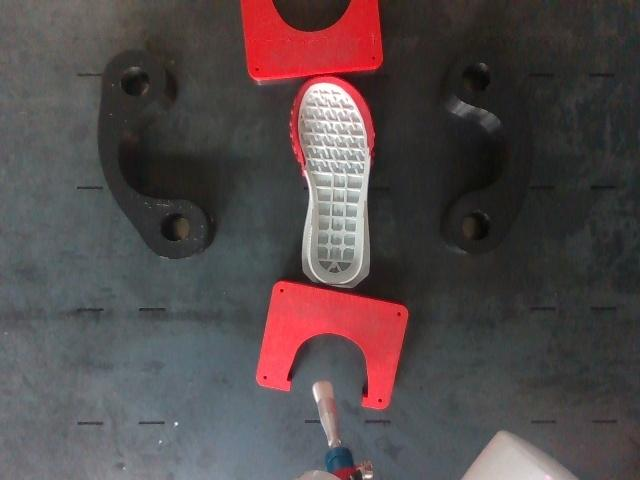shoes: (293, 78, 372, 283)
